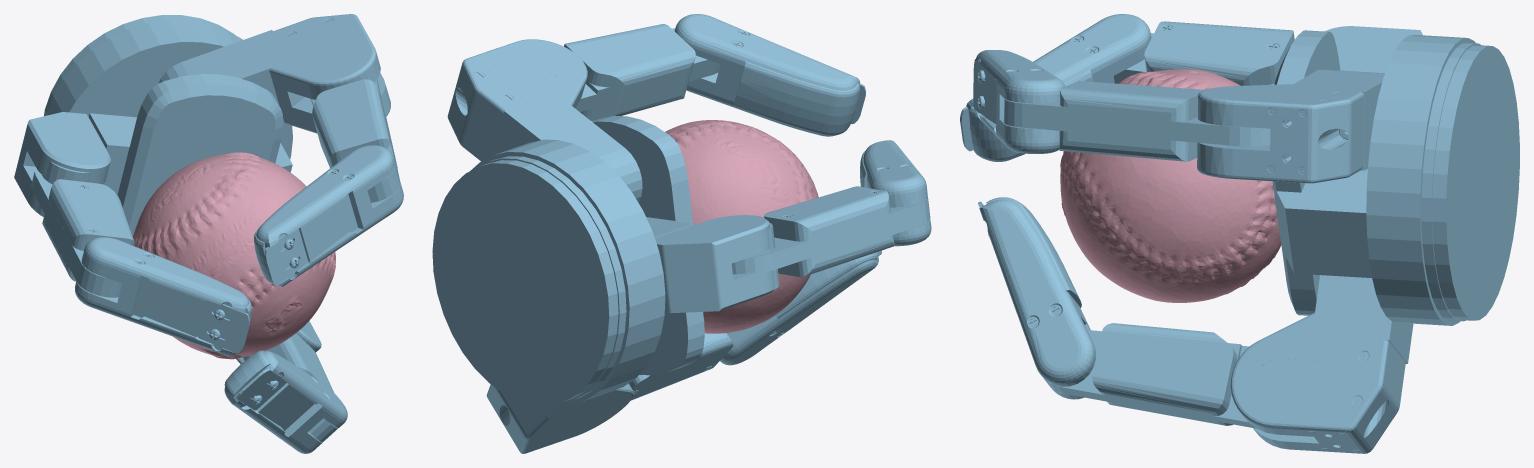
3 renders of one model, left to right at view 1: azimuth 30°, elevation 25°; view 2: azimuth 150°, elevation 25°; view 3: azimuth 270°, elevation 25°, orthographic. The views are drawn at different scales.
Parts seen in each view (by area): view 1: world, baseball.stl; view 2: world, baseball.stl; view 3: world, baseball.stl.
Part boxes in pixels (<box>): world: <box>14,14,403,453</box>; baseball.stl: <box>132,152,335,359</box>; world: <box>432,14,931,453</box>; baseball.stl: <box>665,120,818,333</box>; world: <box>960,14,1519,453</box>; baseball.stl: <box>1060,69,1281,302</box>.
Bounding box in the file's own units: 0.1549 × 0.1349 × 0.1726.
